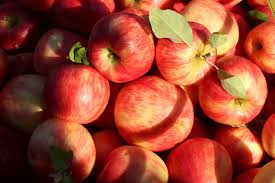apple: (120, 81, 197, 144), (24, 119, 96, 183), (201, 57, 266, 125), (90, 14, 156, 80), (154, 24, 221, 87), (43, 63, 105, 124), (5, 66, 53, 130), (183, 3, 242, 52), (171, 139, 232, 181), (107, 142, 164, 183)
